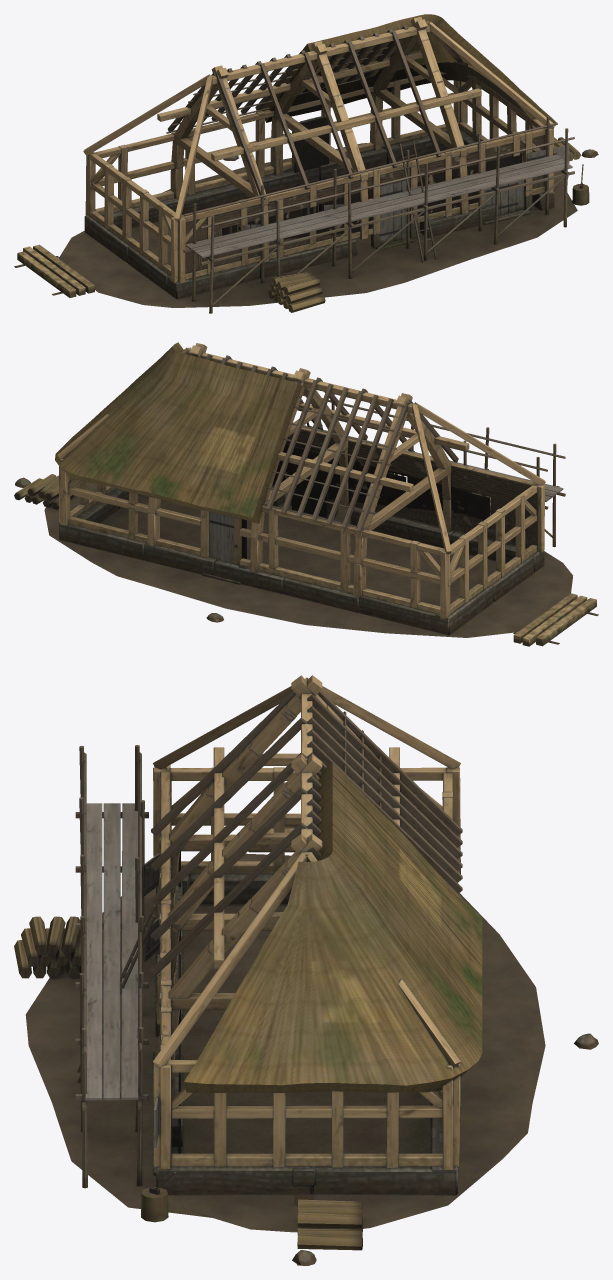
File: house_build2.glb
3 views of the same model, one above another, from view 1: azimuth 30°, elevation 25°; view 2: azimuth 150°, elevation 25°; view 3: azimuth 270°, elevation 25° (orthographic). The views are drawn at different scales.
Parts seen in each view (by area): view 1: house_a_build2_LOD0; view 2: house_a_build2_LOD0; view 3: house_a_build2_LOD0.
Part boxes in pixels (bbox=[...]): house_a_build2_LOD0: bbox=[14, 14, 598, 313]; house_a_build2_LOD0: bbox=[14, 342, 598, 646]; house_a_build2_LOD0: bbox=[14, 675, 598, 1265].
Size of what is drawn, in the model's own units: 17.8 by 5.44 by 9.99.
Materials: 1 (1 with a texture image).
